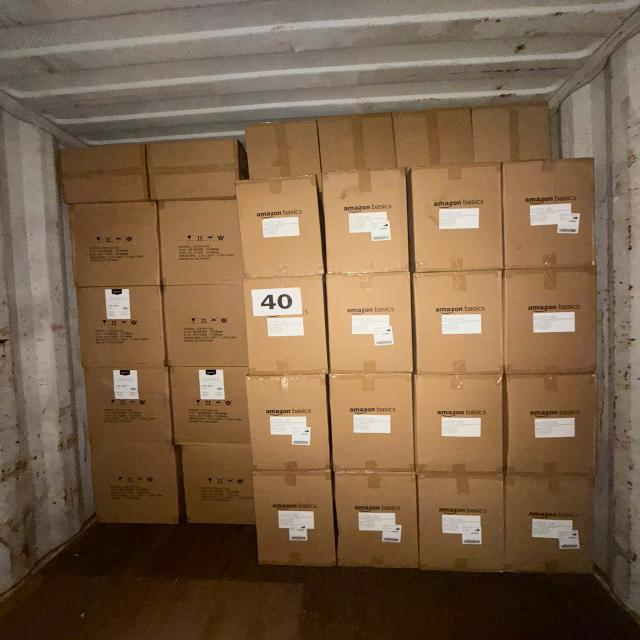Carton: (504, 268, 602, 378), (503, 158, 598, 269), (409, 164, 502, 272), (506, 372, 602, 476), (412, 269, 503, 376), (505, 475, 598, 578), (416, 374, 508, 475), (322, 169, 408, 276), (419, 471, 508, 573), (327, 272, 413, 376), (330, 375, 415, 473), (332, 469, 416, 568), (246, 277, 329, 377), (247, 373, 331, 471), (242, 184, 325, 282), (253, 472, 336, 570), (69, 201, 163, 287), (90, 444, 181, 528), (79, 283, 169, 366), (163, 284, 249, 370), (161, 201, 244, 288), (84, 368, 175, 446), (182, 442, 257, 527), (170, 368, 251, 446), (54, 141, 150, 200), (147, 134, 232, 199), (239, 117, 322, 181), (474, 101, 554, 167), (397, 108, 475, 172), (319, 114, 395, 173)
